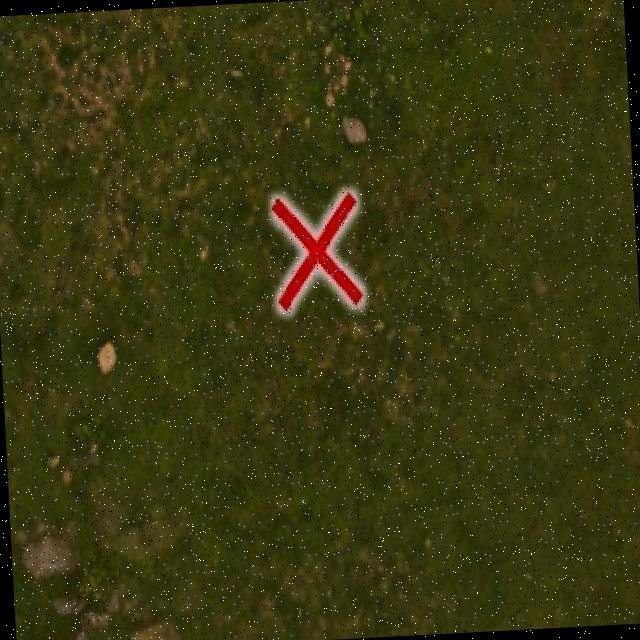x_marker: (272, 191, 362, 310)
